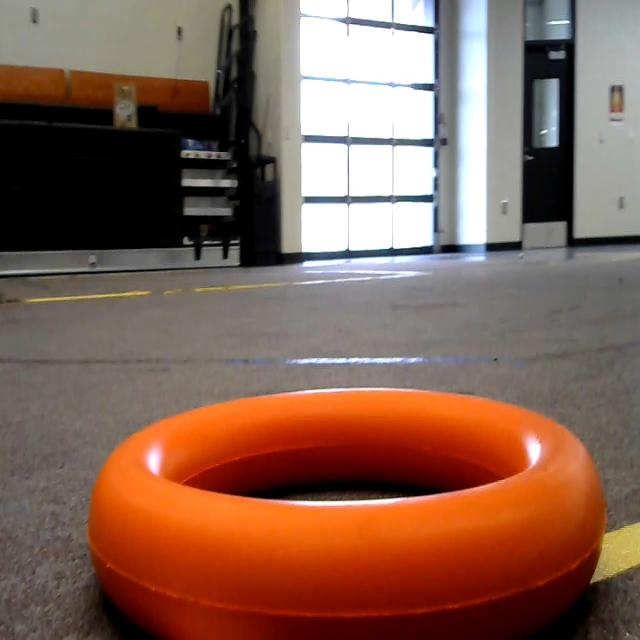note: (90, 374, 610, 640)
